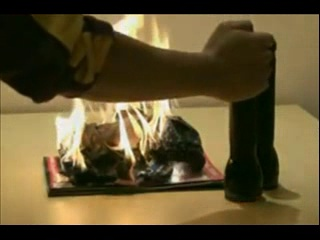fire: (95, 102, 138, 181), (58, 94, 90, 173), (138, 96, 175, 159), (112, 13, 145, 39)
